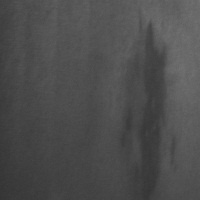inclusion: (120, 16, 173, 199)
